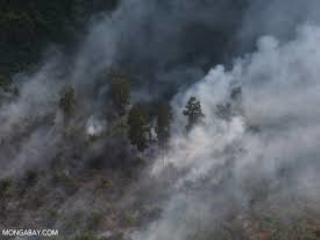smoke: (149, 68, 315, 229)
